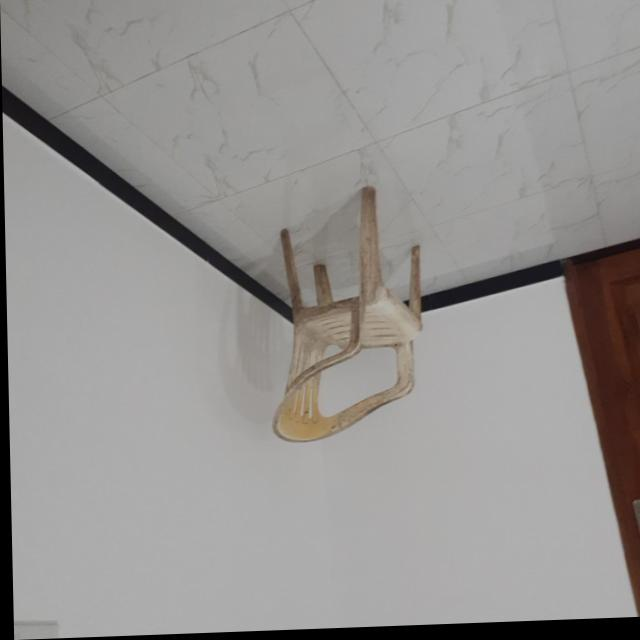Chair: (266, 186, 425, 447)
